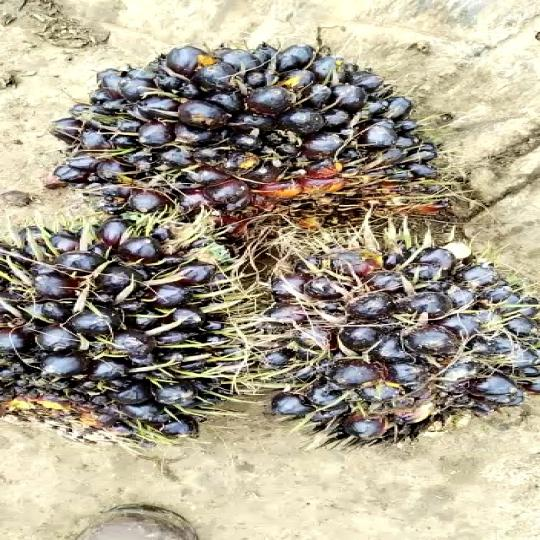mentah: (35, 29, 471, 240), (244, 224, 529, 448), (0, 227, 264, 447)
